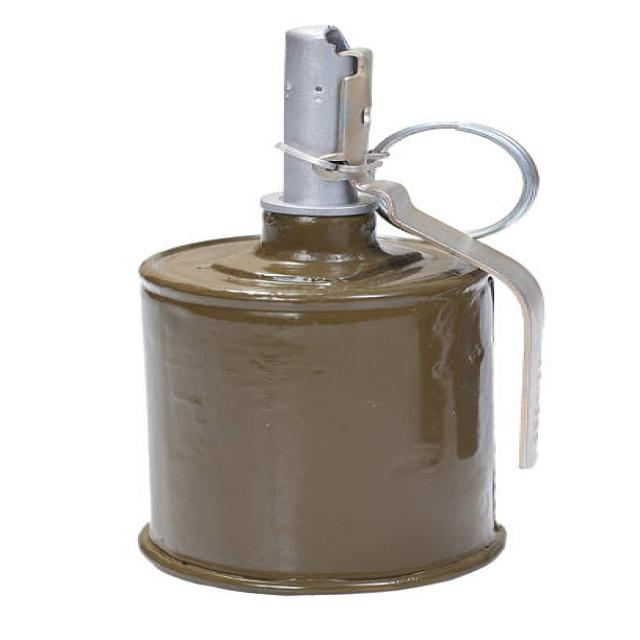grenade: (121, 25, 560, 599)
